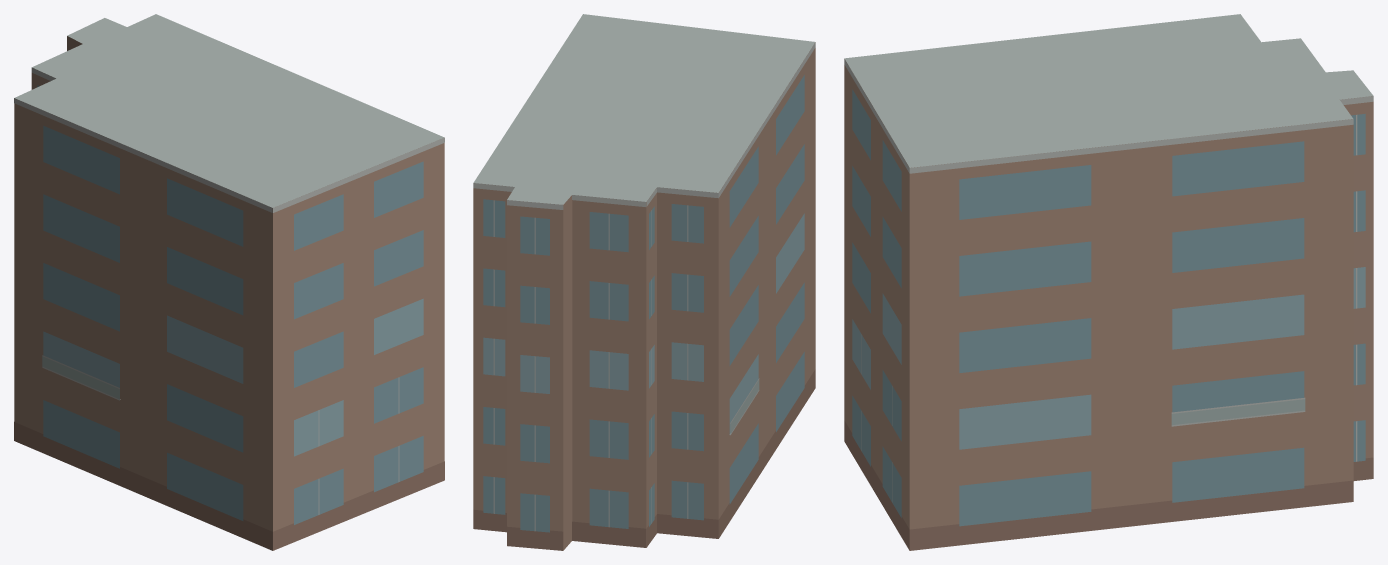
Rendered from survey-upis-32671246.glb.
The picture shows the model from 3 angles, left to right: view 1: azimuth 30°, elevation 25°; view 2: azimuth 150°, elevation 25°; view 3: azimuth 270°, elevation 25°; orthographic projection. The views are drawn at different scales.
Parts seen in each view (by area): view 1: survey-upis-32671246.tmp; view 2: survey-upis-32671246.tmp; view 3: survey-upis-32671246.tmp.
Part boxes in pixels (left/top/right/bottom): survey-upis-32671246.tmp: left=14, top=14, right=444, bottom=550; survey-upis-32671246.tmp: left=473, top=14, right=815, bottom=550; survey-upis-32671246.tmp: left=844, top=14, right=1373, bottom=550.
Bounding box in the file's own units: 13.81 × 16.01 × 20.06.
